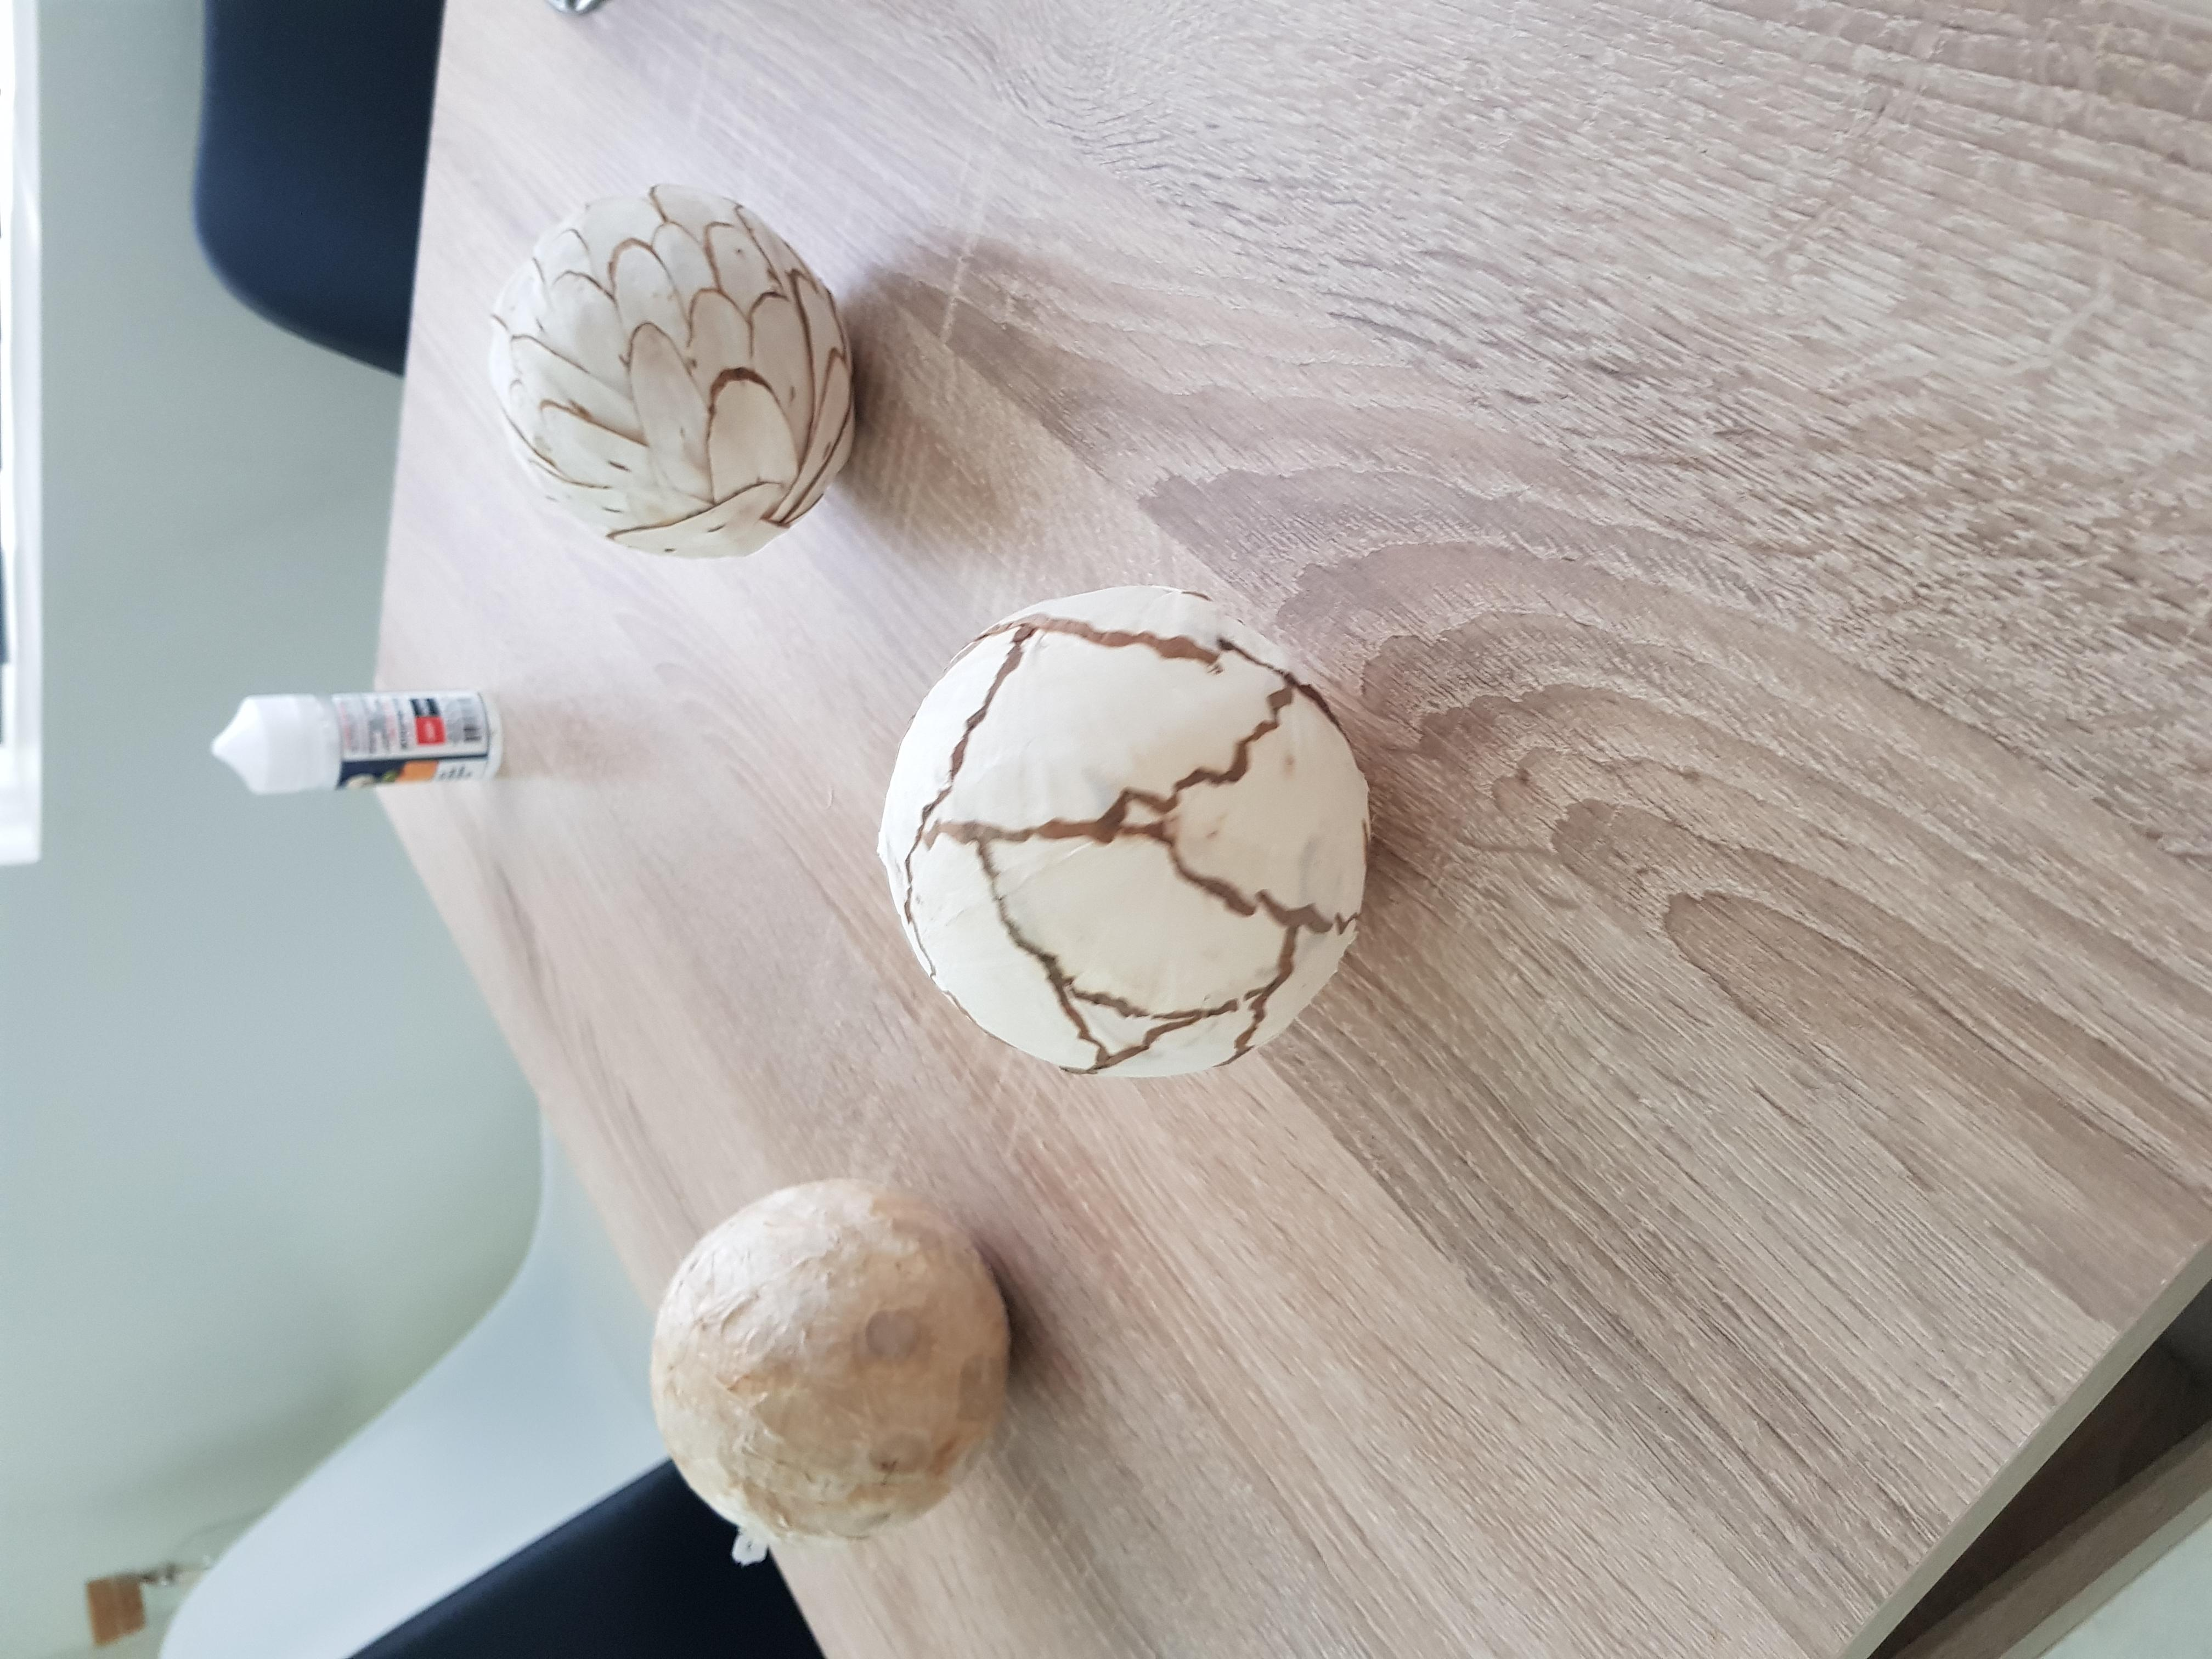Sphere: (885, 587, 1367, 1089), (648, 1176, 1021, 1565), (475, 178, 852, 552)
